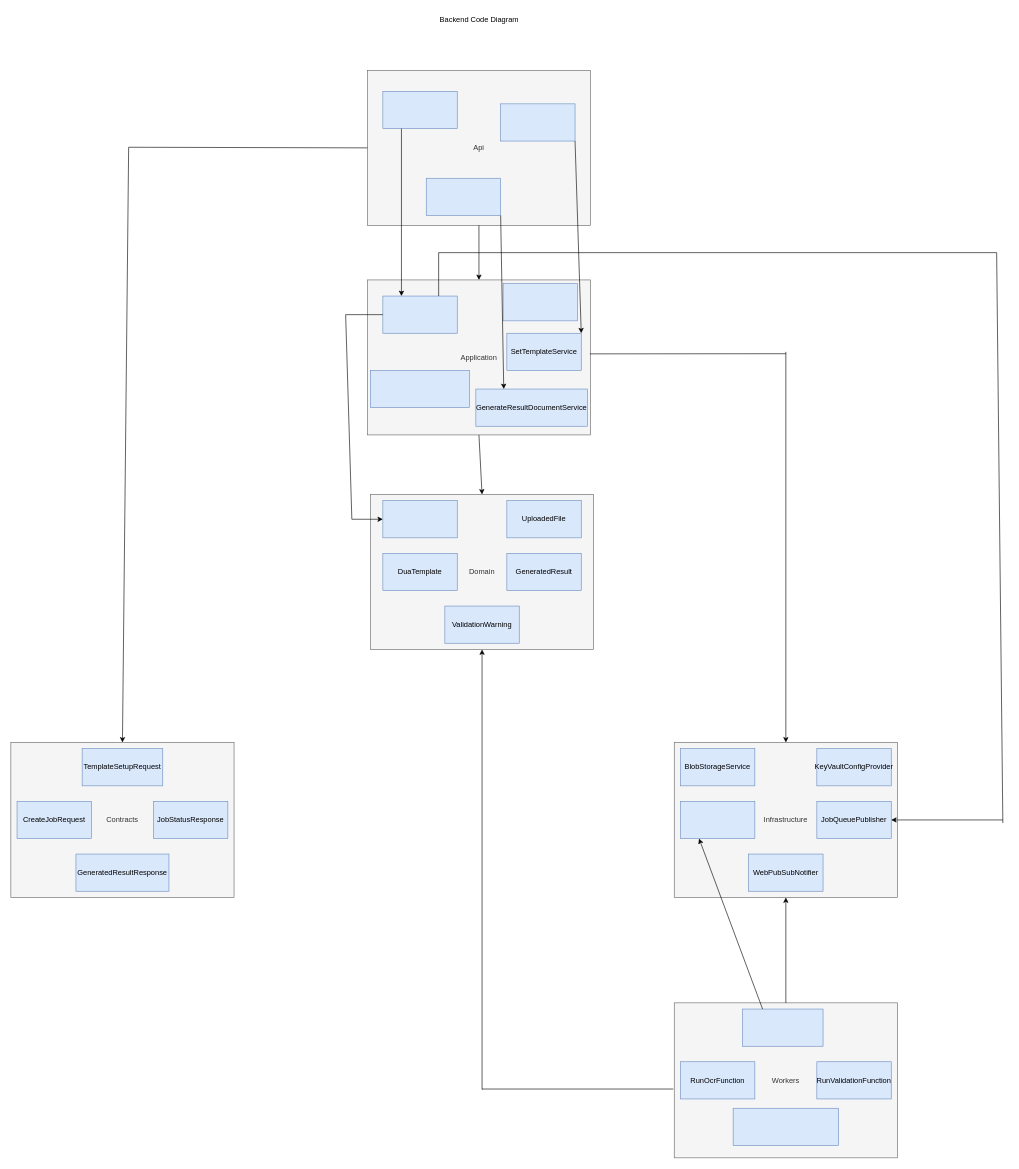
The diagram is 1019 pixels wide and 1169 high, and some of its shapes have lost their labels. Here are the shapes that lost their labels. From the top down, the centre of each, then its label:
(x=419, y=110): DuaJobsController
(x=537, y=122): TemplatesController
(x=463, y=196): ResultsController
(x=419, y=314): CreateDuaJobService
(x=540, y=302): GetJobStatusService
(x=420, y=389): RegisterUploadedFileService
(x=419, y=519): DuaJob
(x=717, y=820): DuaDbContext
(x=782, y=1027): ProcessDuaJobFunction
(x=786, y=1126): RunSemanticExtractionFunction
